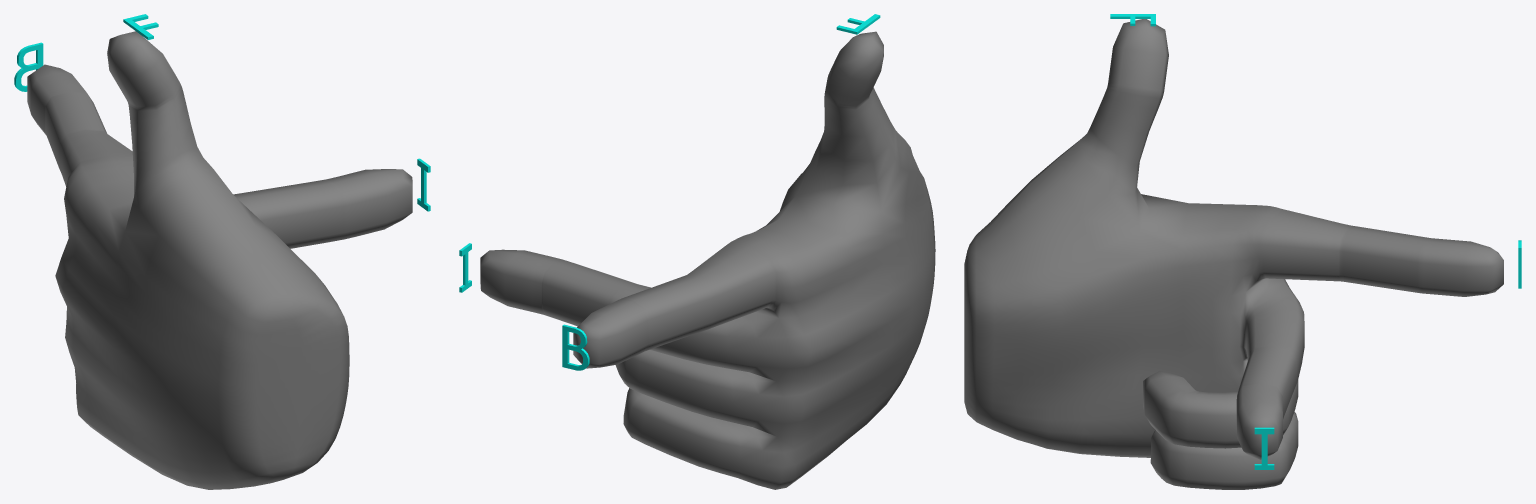
Rendered from FlemingLHmoeFBI.obj.
The picture shows the model from 3 angles, left to right: view 1: azimuth 30°, elevation 25°; view 2: azimuth 150°, elevation 25°; view 3: azimuth 270°, elevation 25°; orthographic projection. The views are drawn at different scales.
Parts seen in each view (by area): view 1: polySurface1; view 2: polySurface1; view 3: polySurface1.
Boxes of the visible parts, x1,y1,x2,y2 form: polySurface1: [14, 14, 430, 489]; polySurface1: [459, 14, 935, 489]; polySurface1: [964, 14, 1521, 489].
Bounding box in the file's own units: 1.47 × 1.66 × 1.99.
